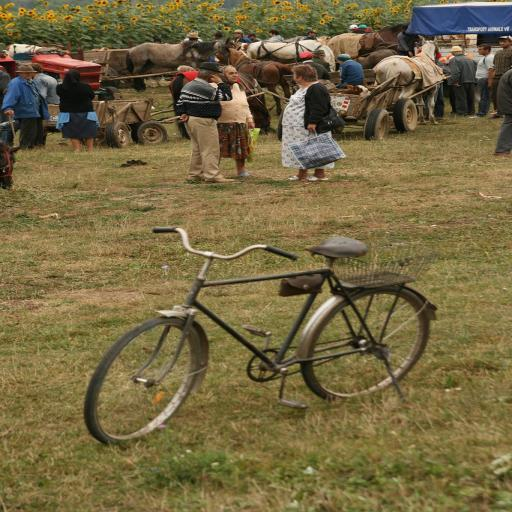horse: (126, 21, 446, 125)
